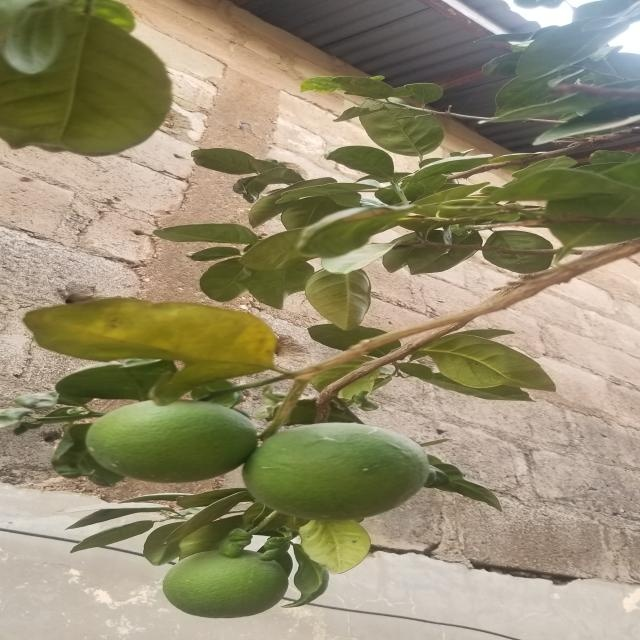agrume: (69, 386, 255, 498), (251, 425, 437, 527), (147, 550, 317, 626)
